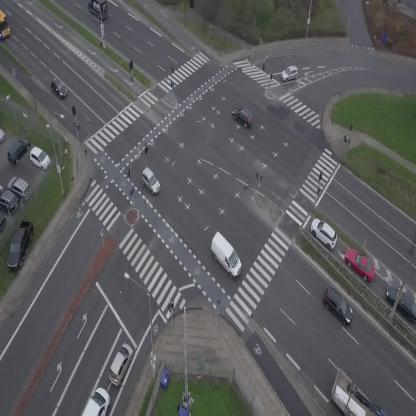bus: (0, 10, 11, 40)
car: (340, 242, 382, 286), (317, 285, 359, 327), (103, 340, 137, 388), (305, 214, 343, 252), (136, 166, 165, 196), (82, 387, 110, 416), (228, 102, 257, 129), (47, 76, 71, 101), (279, 64, 300, 82)
lorry: (317, 367, 390, 416), (202, 230, 249, 280), (88, 0, 108, 18)
